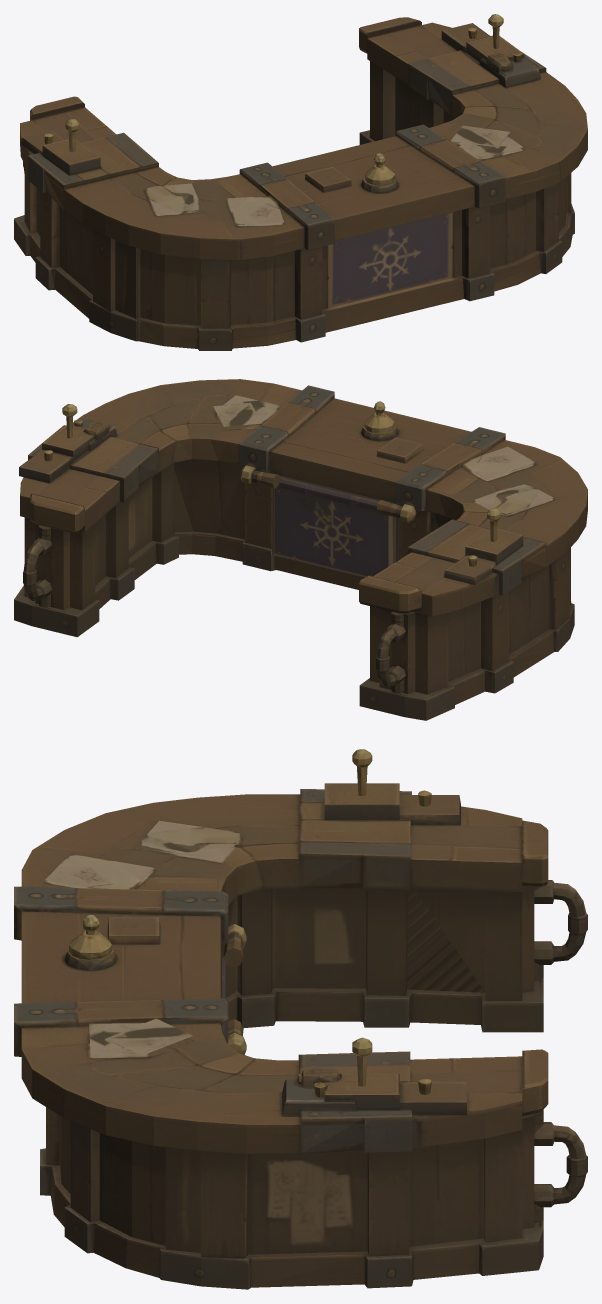
Rendered from tripo_convert_ddf54bd7-caa6-4519-9b62-002dbd89011c.obj.
3 renders of one model, top to bottom at view 1: azimuth 30°, elevation 25°; view 2: azimuth 150°, elevation 25°; view 3: azimuth 270°, elevation 25°, orthographic. The views are drawn at different scales.
Parts seen in each view (by area): view 1: tripo_part_0, tripo_part_8, tripo_part_27, tripo_part_7, tripo_part_30, tripo_part_16, tripo_part_13, tripo_part_46, tripo_part_32, tripo_part_12, tripo_part_38, tripo_part_54 (+17 smaller); view 2: tripo_part_0, tripo_part_34, tripo_part_7, tripo_part_9, tripo_part_30, tripo_part_13, tripo_part_10, tripo_part_11, tripo_part_26, tripo_part_6, tripo_part_21, tripo_part_1 (+16 smaller); view 3: tripo_part_0, tripo_part_11, tripo_part_22, tripo_part_33, tripo_part_9, tripo_part_26, tripo_part_45, tripo_part_43, tripo_part_10, tripo_part_3, tripo_part_7, tripo_part_38 (+18 smaller).
Boxes of the visible parts, left/top/right/bottom form: tripo_part_0: left=20, top=22, right=587, bottom=332; tripo_part_8: left=89, top=241, right=296, bottom=348; tripo_part_27: left=197, top=257, right=266, bottom=350; tripo_part_7: left=471, top=192, right=540, bottom=291; tripo_part_30: left=35, top=191, right=92, bottom=295; tripo_part_16: left=295, top=247, right=461, bottom=342; tripo_part_13: left=359, top=61, right=418, bottom=144; tripo_part_46: left=267, top=250, right=300, bottom=322; tripo_part_32: left=462, top=208, right=494, bottom=301; tripo_part_12: left=536, top=187, right=562, bottom=273; tripo_part_38: left=42, top=139, right=100, bottom=175; tripo_part_54: left=144, top=183, right=203, bottom=213; tripo_part_0: left=20, top=379, right=587, bottom=677; tripo_part_34: left=272, top=475, right=395, bottom=577; tripo_part_7: left=156, top=459, right=279, bottom=564; tripo_part_9: left=359, top=606, right=454, bottom=720; tripo_part_30: left=481, top=590, right=549, bottom=693; tripo_part_13: left=32, top=518, right=110, bottom=637; tripo_part_10: left=95, top=499, right=155, bottom=600; tripo_part_11: left=448, top=601, right=484, bottom=704; tripo_part_26: left=14, top=517, right=69, bottom=625; tripo_part_6: left=359, top=575, right=421, bottom=613; tripo_part_21: left=30, top=493, right=84, bottom=533; tripo_part_1: left=376, top=611, right=405, bottom=693; tripo_part_0: left=14, top=789, right=522, bottom=1258; tripo_part_11: left=271, top=888, right=485, bottom=1024; tripo_part_22: left=90, top=1132, right=200, bottom=1286; tripo_part_33: left=161, top=1154, right=364, bottom=1289; tripo_part_9: left=481, top=885, right=543, bottom=1032; tripo_part_26: left=479, top=1114, right=543, bottom=1275; tripo_part_45: left=248, top=1150, right=368, bottom=1256; tripo_part_43: left=409, top=1139, right=485, bottom=1279; tripo_part_10: left=364, top=1151, right=413, bottom=1288; tripo_part_3: left=533, top=1109, right=587, bottom=1223; tripo_part_7: left=46, top=1019, right=246, bottom=1226; tripo_part_38: left=324, top=783, right=399, bottom=819.
Size of the model in its own units: 1 by 0.3346 by 0.7339.
Materials: 1 (1 with a texture image).
